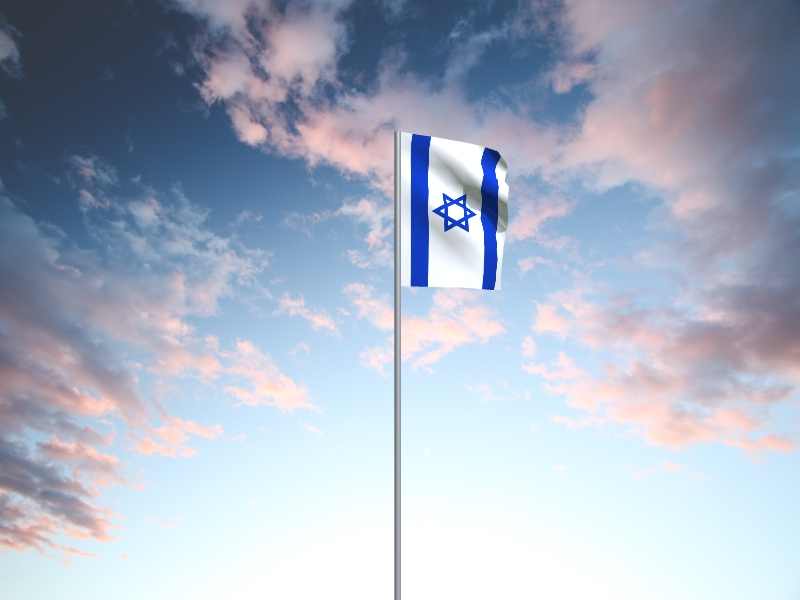il: (401, 133, 510, 292)
